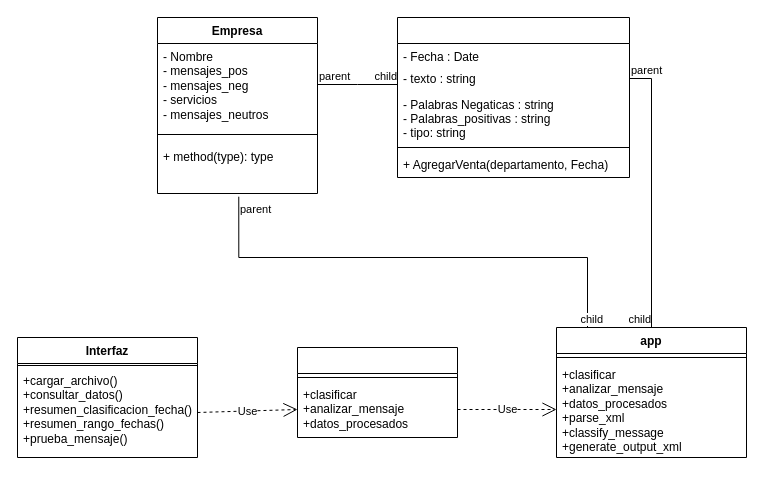
Some shapes in this 764 by 478 pixel diagram are drawn without their labels. Here are the shapes that lost their labels. From the top down, the box of each, then its label:
(396, 16, 630, 178): Mensaje
(296, 346, 458, 438): index
